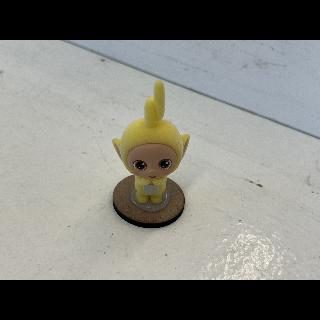teletubby: (112, 80, 190, 203)
